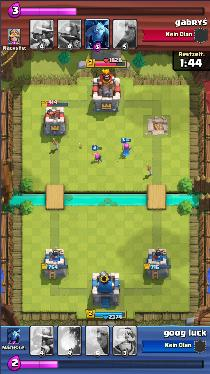ally_archer: (122, 142, 132, 156), (91, 153, 103, 163)
